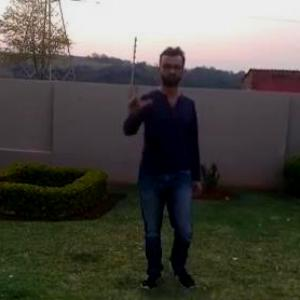land_hand: (126, 78, 154, 118)
